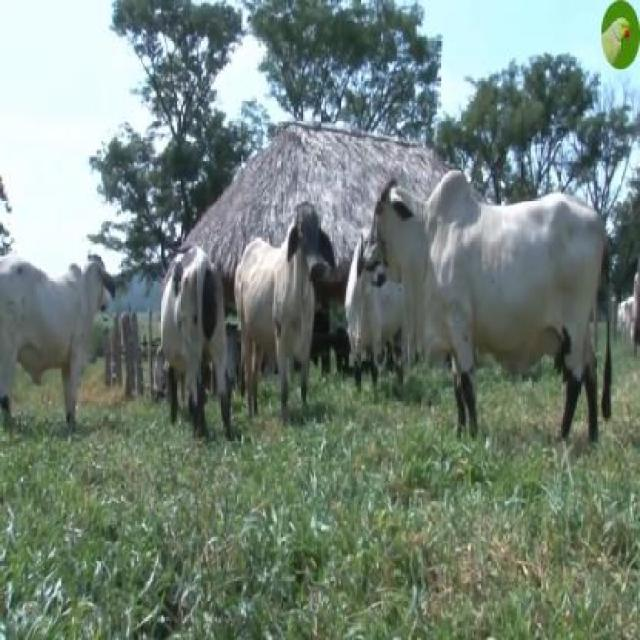Cow: (367, 166, 616, 446), (232, 200, 334, 435)
